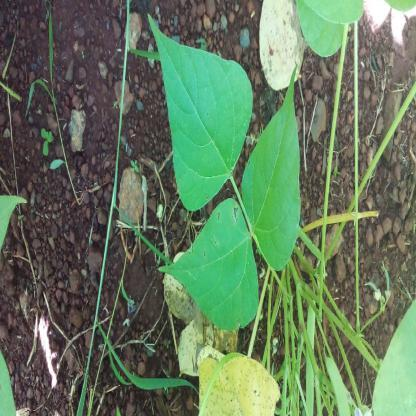Beans_Angular_LeafSpot: (157, 193, 268, 327), (252, 0, 309, 87)
